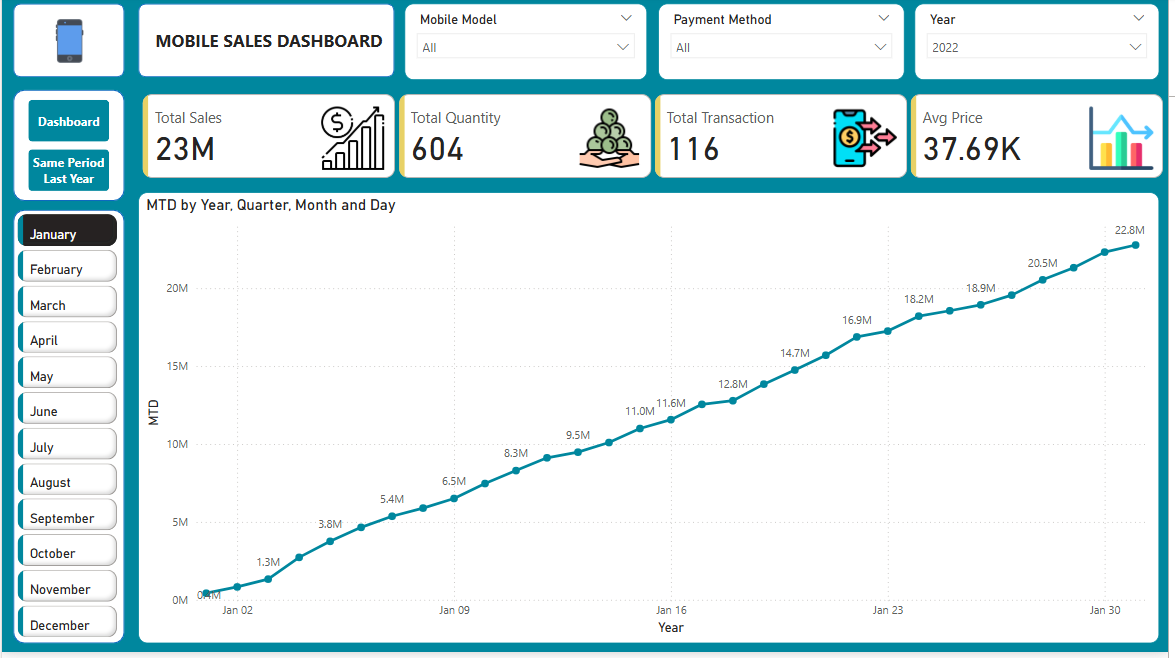

The dashboard page shown, as its layout file describes it:
{"tool":"powerbi","page":{"name":"MTD Report","canvas":[1280,720],"ordinal":1},"visuals":[{"type":"shape","box":[12.3,8.2,122.1,81],"z":0},{"type":"image","box":[24.7,20.6,98.8,57.6],"z":1000},{"type":"shape","box":[12.3,102.9,122.1,122.1],"z":2000},{"type":"shape","box":[12.3,234.6,122.1,476.2],"z":3000},{"type":"advancedSlicerVisual","fields":{"Values":["Custom Calendar.Date.Variation.Date Hierarchy.Month"]},"box":[12.3,234.6,119.4,485.8],"z":4000},{"type":"cardVisual","fields":{"Data":["sales_data.Total Sales","sales_data.Total Quantity","sales_data.Total Transaction","sales_data.Avg Price"]},"box":[149.6,102.9,1130.7,102.9],"z":5000},{"type":"slicer","fields":{"Values":["sales_data.Mobile Model"]},"box":[441.9,8.2,266.2,83.7],"z":6000},{"type":"slicer","fields":{"Values":["sales_data.Payment Method"]},"box":[720.4,8.2,270.3,83.7],"z":7000},{"type":"slicer","fields":{"Values":["Custom Calendar.Date.Variation.Date Hierarchy.Year"]},"box":[1001.7,8.2,269,83.7],"z":8000},{"type":"shape","box":[149.6,8.2,281.3,81],"z":9000},{"type":"textbox","box":[163.3,31.6,365,57.6],"z":10000},{"type":"lineChart","fields":{"Category":["Custom Calendar.Date.Variation.Date Hierarchy.Year","Custom Calendar.Date.Variation.Date Hierarchy.Quarter","Custom Calendar.Date.Variation.Date Hierarchy.Month","Custom Calendar.Date.Variation.Date Hierarchy.Day"],"Y":["sales_data.MTD"]},"box":[149.6,215.4,1121.1,495.4],"z":10001},{"type":"pageNavigator","box":[28.8,113.9,89.2,101.5],"z":10002}]}

Visuals, with their boxes in screenshot pixels (x1, y1, x2, y2), scaled from the page's 1280x720 canvas onto the 1175x658 screenshot:
shape: select_region(11, 7, 123, 82)
image: select_region(23, 19, 113, 71)
shape: select_region(11, 94, 123, 206)
shape: select_region(11, 214, 123, 650)
advancedSlicerVisual - Custom Calendar.Date.Variation.Date Hierarchy.Month: select_region(11, 214, 121, 657)
cardVisual - sales_data.Total Sales x sales_data.Total Quantity: select_region(137, 94, 1174, 188)
slicer - sales_data.Mobile Model: select_region(406, 7, 650, 84)
slicer - sales_data.Payment Method: select_region(661, 7, 909, 84)
slicer - Custom Calendar.Date.Variation.Date Hierarchy.Year: select_region(920, 7, 1166, 84)
shape: select_region(137, 7, 396, 82)
textbox: select_region(150, 29, 485, 82)
lineChart - Custom Calendar.Date.Variation.Date Hierarchy.Year x Custom Calendar.Date.Variation.Date Hierarchy.Quarter: select_region(137, 197, 1166, 650)
pageNavigator: select_region(26, 104, 108, 197)
